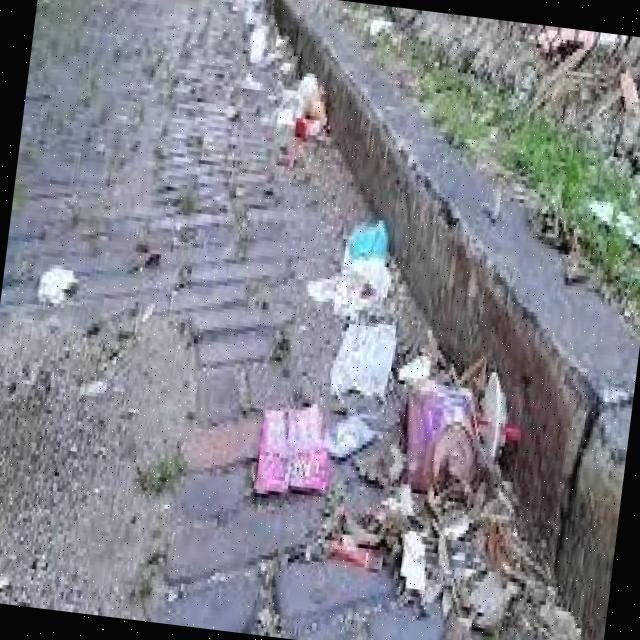curb: (306, 74, 589, 405), (453, 311, 636, 583), (261, 1, 381, 116)
